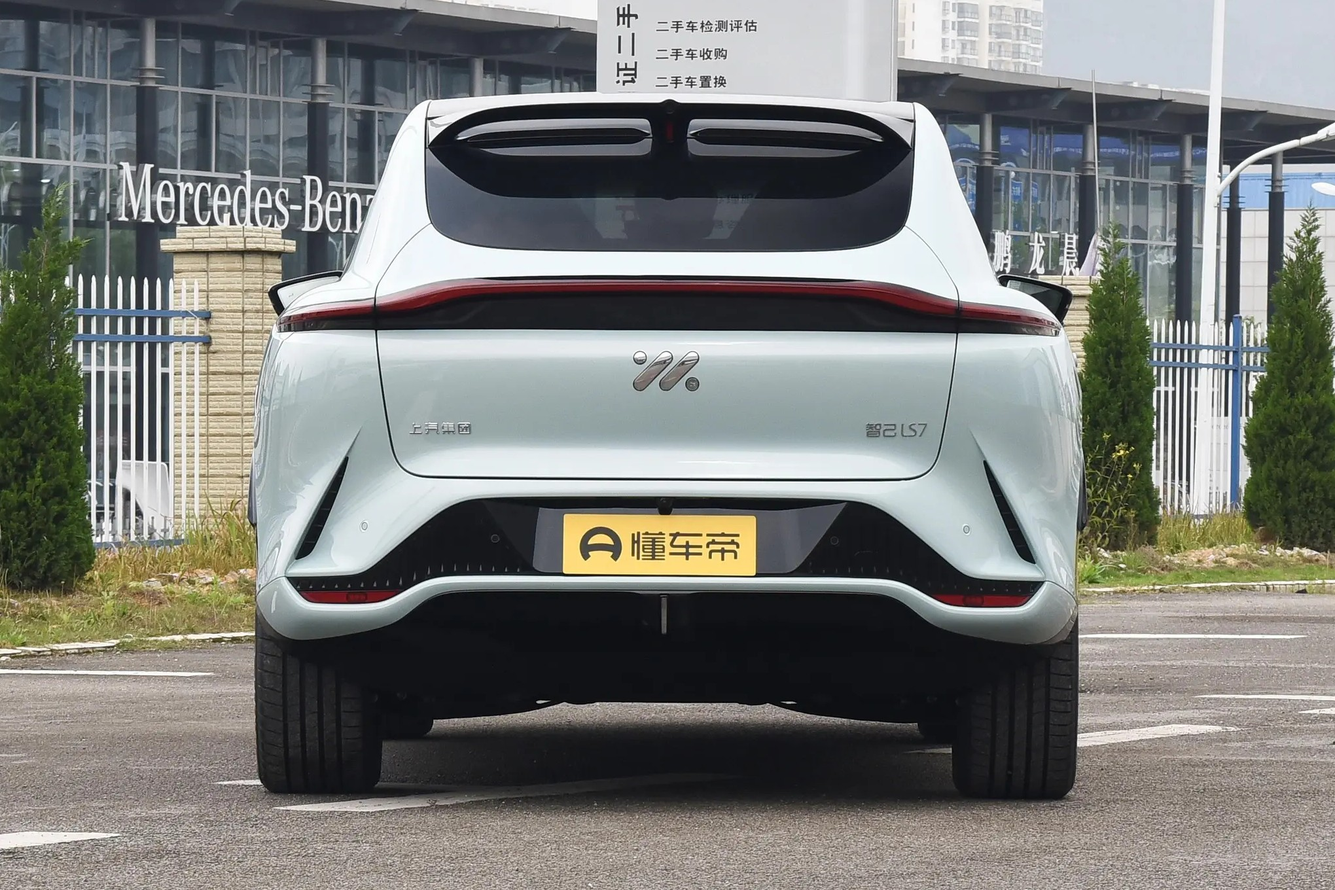IM: (632, 351, 699, 391)
